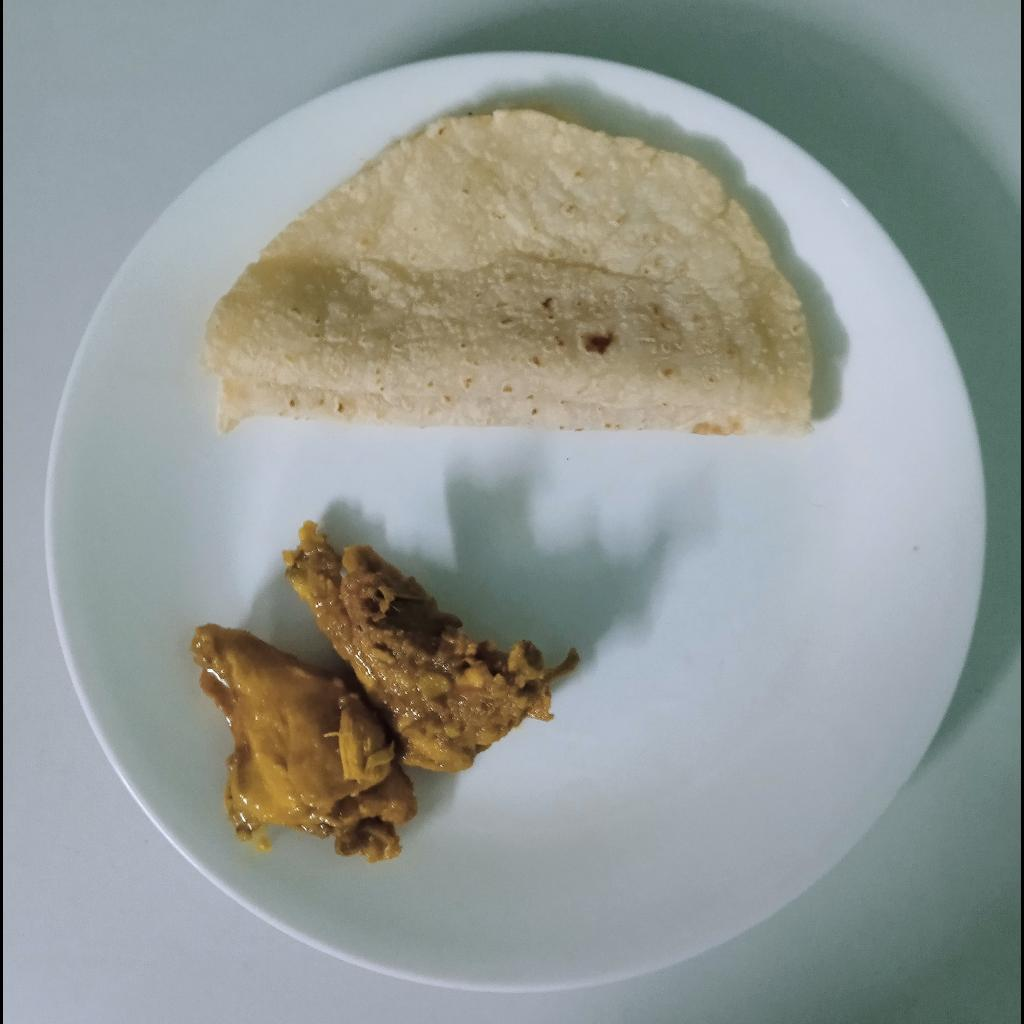chicken: (187, 521, 581, 861)
ruti: (200, 108, 822, 438)
